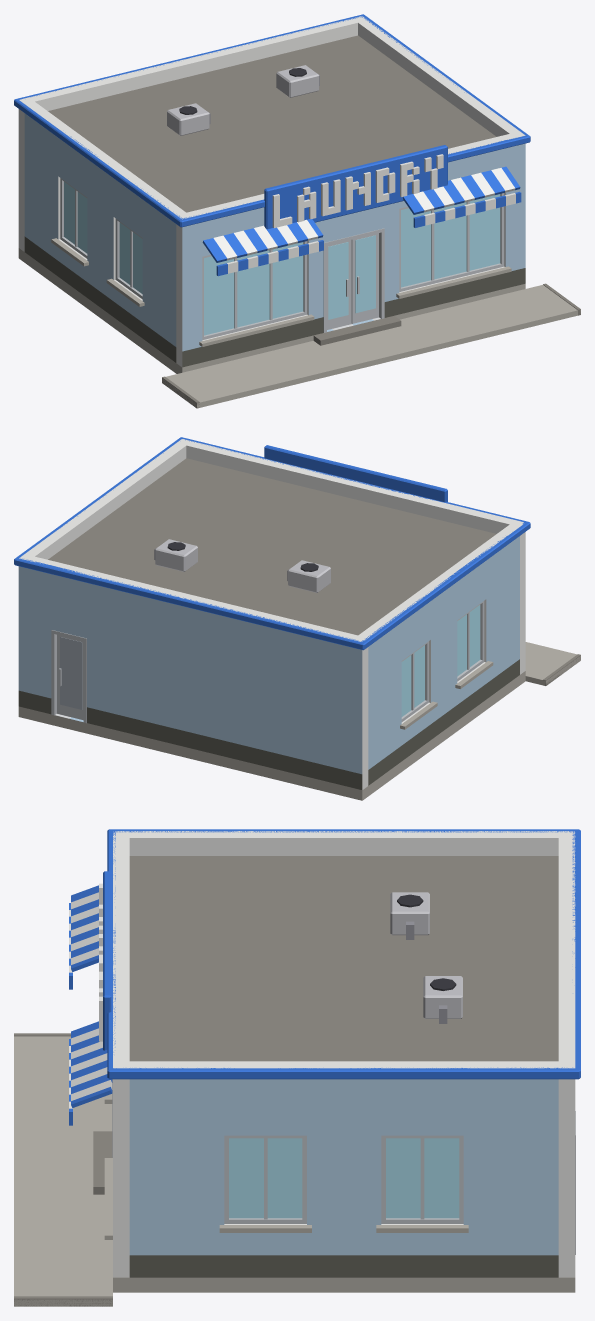
File: Laundromat.fbx
The picture shows the model from 3 angles, top to bottom: view 1: azimuth 30°, elevation 25°; view 2: azimuth 150°, elevation 25°; view 3: azimuth 270°, elevation 25°; orthographic projection. The views are drawn at different scales.
Parts seen in each view (by area): view 1: Laundromat, Laundromat_Roof, Laundromat_Glass, Laundromat_Sign, Laundromat_DoorR, Laundromat_DoorL; view 2: Laundromat, Laundromat_Roof, Laundromat_Sign, Laundromat_Glass, Laundromat_BackDoor; view 3: Laundromat, Laundromat_Roof, Laundromat_Glass, Laundromat_Sign.
Part boxes in pixels (x1,y1,x2,y2): Laundromat: (14, 14, 580, 408); Laundromat_Roof: (48, 35, 496, 212); Laundromat_Glass: (64, 182, 500, 335); Laundromat_Sign: (264, 145, 447, 229); Laundromat_DoorR: (351, 233, 378, 323); Laundromat_DoorL: (327, 239, 351, 329); Laundromat: (14, 437, 580, 800); Laundromat_Roof: (48, 458, 496, 635); Laundromat_Sign: (264, 445, 447, 502); Laundromat_Glass: (401, 605, 480, 716); Laundromat_BackDoor: (57, 634, 83, 720); Laundromat: (14, 829, 580, 1306); Laundromat_Roof: (129, 856, 558, 1061); Laundromat_Glass: (229, 1138, 459, 1218); Laundromat_Sign: (99, 871, 111, 1050).
Bounding box in the file's own units: 38 × 16.1 × 34.35.
1 material, 1 textured.
